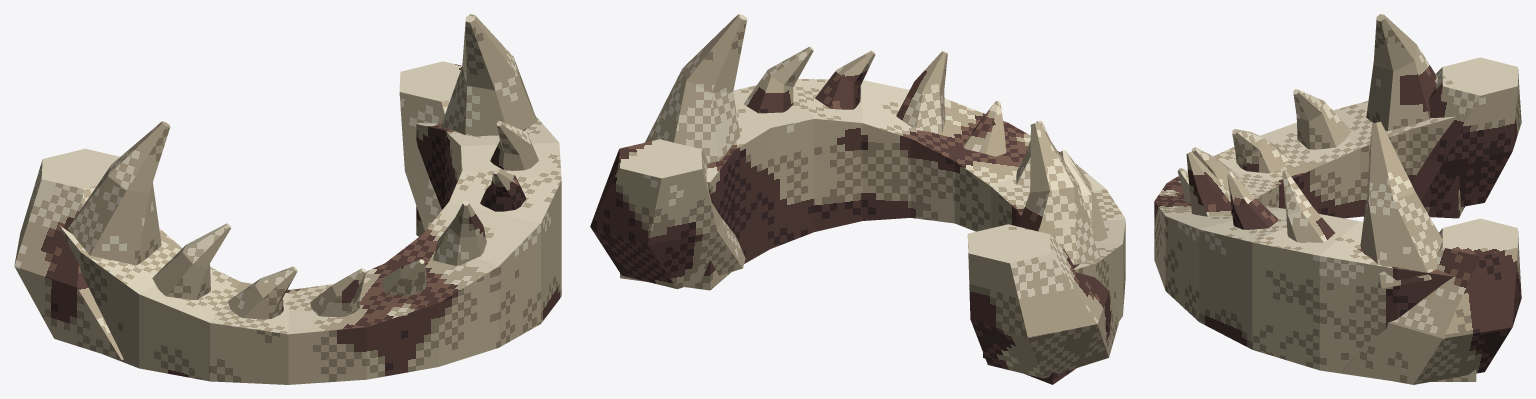
File: SM_Prop_CreatureJaw_01.glb
3 views of the same model, side by side, from view 1: azimuth 30°, elevation 25°; view 2: azimuth 150°, elevation 25°; view 3: azimuth 270°, elevation 25° (orthographic). The views are drawn at different scales.
Visible parts, largest first — view 1: bone_jaw, bone_hinge_l, tooth_8, tooth_0, bone_hinge_r, tooth_7, tooth_3, tooth_6, tooth_5, tooth_1, tooth_2, tooth_4; view 2: bone_jaw, bone_hinge_l, bone_hinge_r, tooth_0, tooth_8, tooth_3, tooth_1, tooth_2, tooth_4, tooth_7, tooth_5; view 3: bone_jaw, bone_hinge_r, bone_hinge_l, tooth_0, tooth_8, tooth_7, tooth_1, tooth_3, tooth_6, tooth_2, tooth_5.
Boxes of the visible parts, x1,y1,x2,y2 form: bone_jaw: (58, 116, 561, 384); bone_hinge_l: (14, 148, 123, 359); tooth_8: (68, 121, 170, 265); tooth_0: (441, 14, 536, 136); bone_hinge_r: (399, 61, 462, 230); tooth_7: (152, 223, 231, 299); tooth_3: (433, 201, 486, 265); tooth_6: (228, 266, 297, 319); tooth_5: (310, 268, 366, 317); tooth_1: (490, 121, 538, 170); tooth_2: (480, 169, 526, 211); tooth_4: (382, 259, 426, 295); bone_jaw: (620, 79, 1125, 384); bone_hinge_l: (967, 224, 1118, 378); bone_hinge_r: (590, 139, 745, 288); tooth_0: (645, 14, 747, 163); tooth_8: (1018, 122, 1100, 264); tooth_3: (896, 51, 947, 133); tooth_1: (743, 46, 813, 113); tooth_2: (815, 50, 875, 109); tooth_4: (963, 101, 1006, 156); tooth_7: (1061, 155, 1107, 241); tooth_5: (1016, 121, 1049, 186); bone_jaw: (1154, 101, 1476, 381); bone_hinge_r: (1342, 218, 1521, 384); bone_hinge_l: (1411, 57, 1521, 212); tooth_0: (1360, 121, 1443, 288); tooth_8: (1366, 14, 1438, 131); tooth_7: (1293, 89, 1351, 149); tooth_1: (1282, 170, 1334, 242); tooth_3: (1186, 152, 1232, 216); tooth_6: (1232, 129, 1288, 173); tooth_2: (1227, 172, 1278, 229); tooth_5: (1191, 147, 1244, 190).
Size of the model in its own units: 0.571 by 0.2611 by 0.3797.
1 material, 1 textured.
